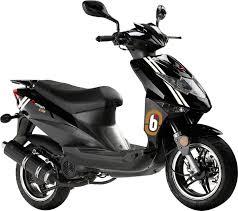motorcycle: (2, 1, 238, 210)
